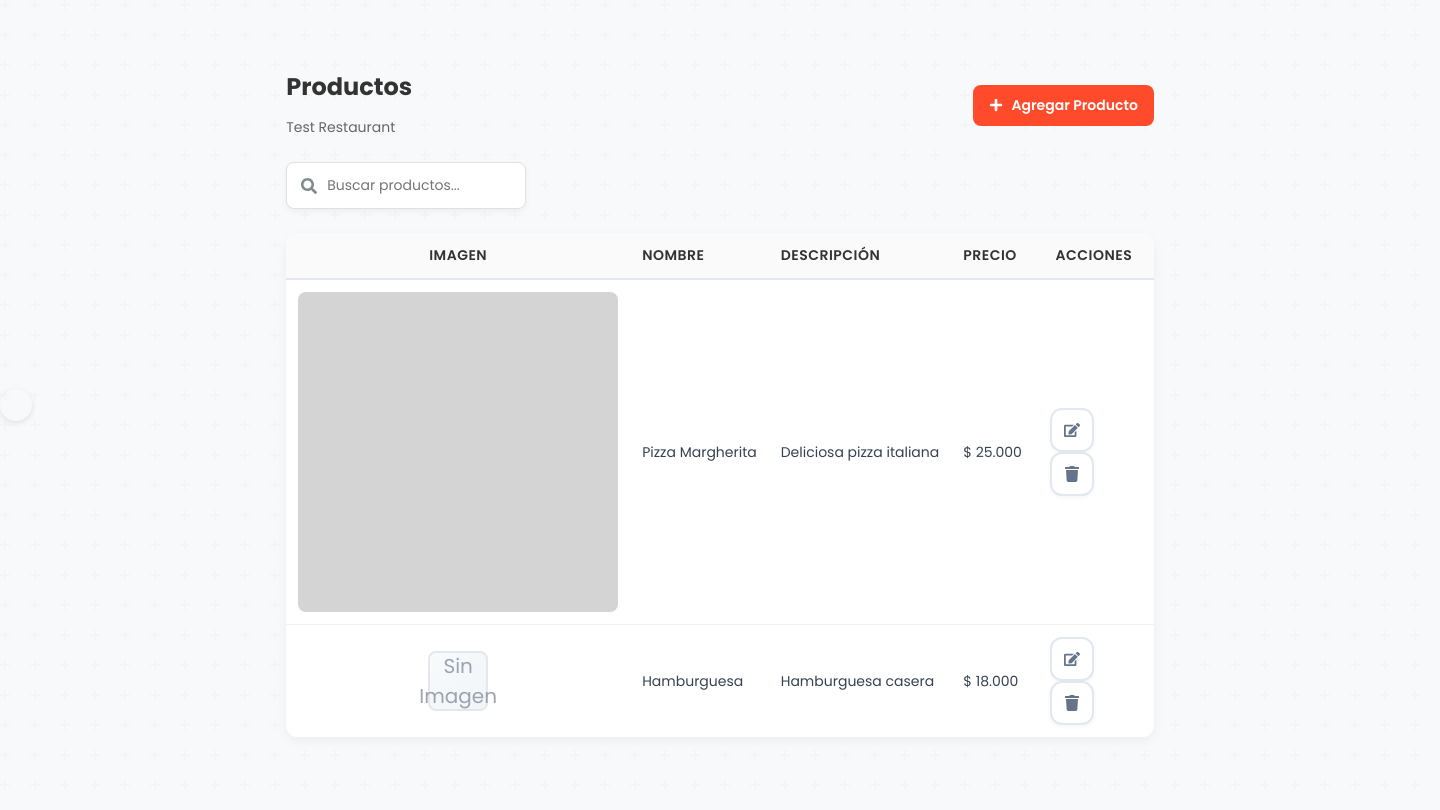
Test: ProductManagement Component › opens add product modal
Expected: the heading "Productos" is shown, [286, 70, 412, 103]
Step 1. Click the button "Agregar Producto" → (1064, 106), box [973, 85, 1154, 126]
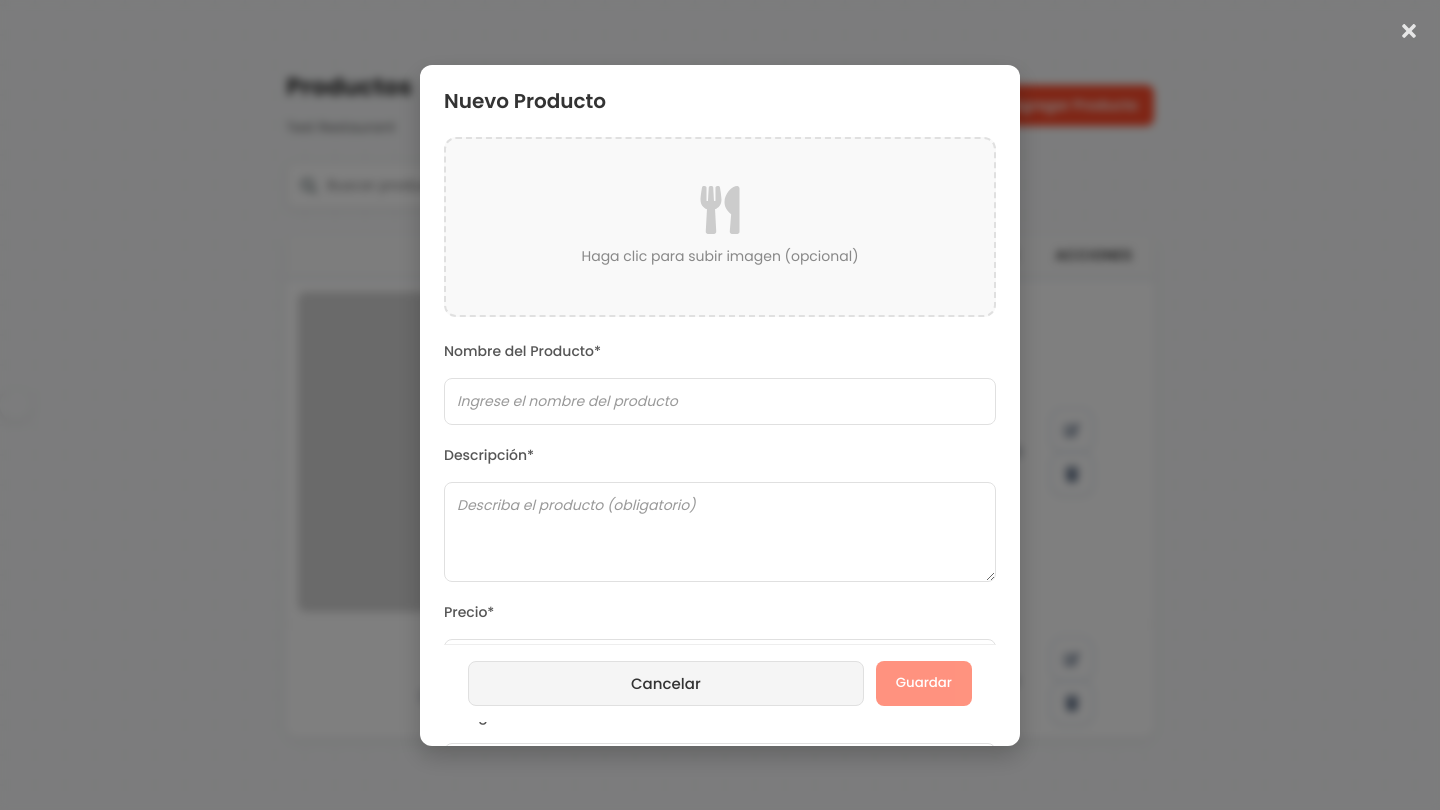
Expected: the heading "Nuevo Producto" is shown, [444, 88, 606, 112]
